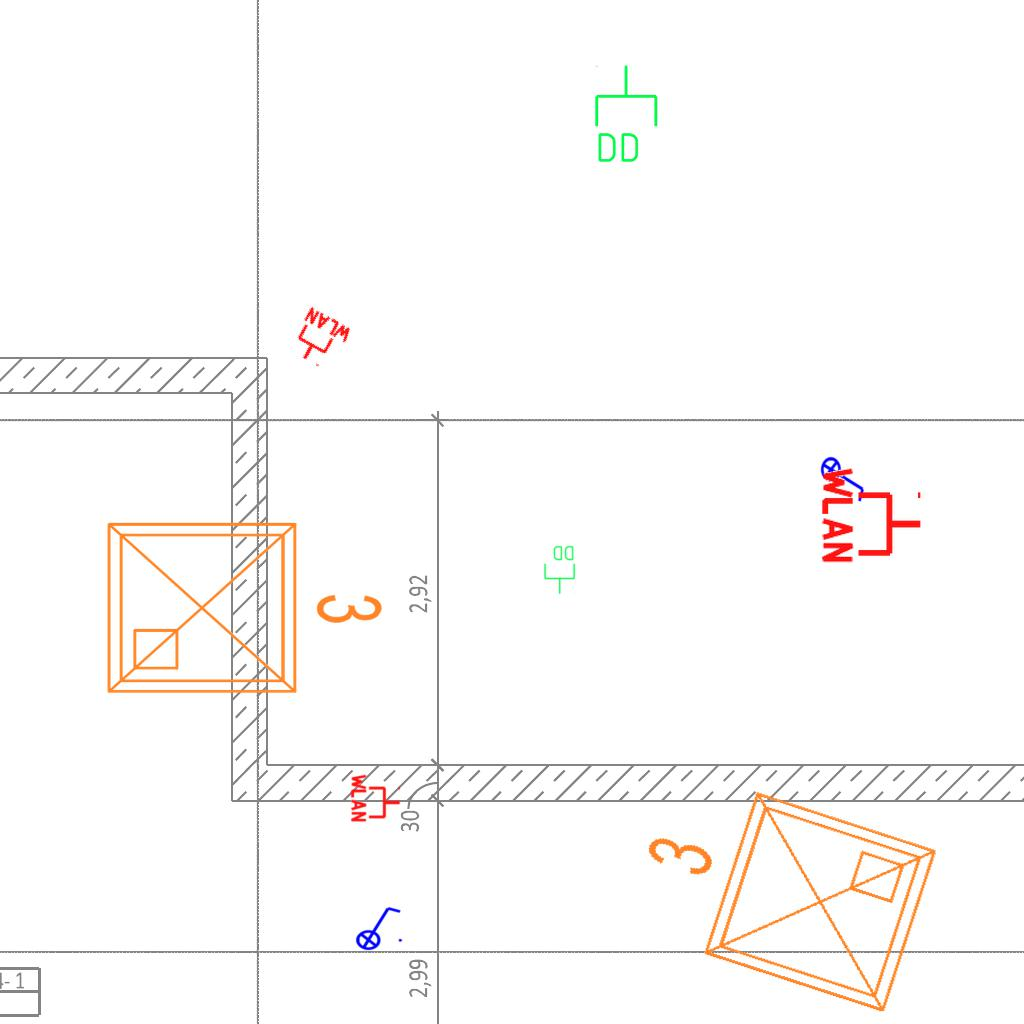Ausschalter_beleuchtet: (820, 450, 868, 506), (349, 903, 405, 951)
Datenanschluss_zweifach: (591, 63, 660, 166), (543, 544, 577, 595)
Einbaudownlights_LED_Konferenzraeume: (605, 747, 955, 1024), (93, 500, 393, 708)
WLAN: (820, 463, 925, 567), (284, 304, 356, 376), (350, 772, 402, 824)
